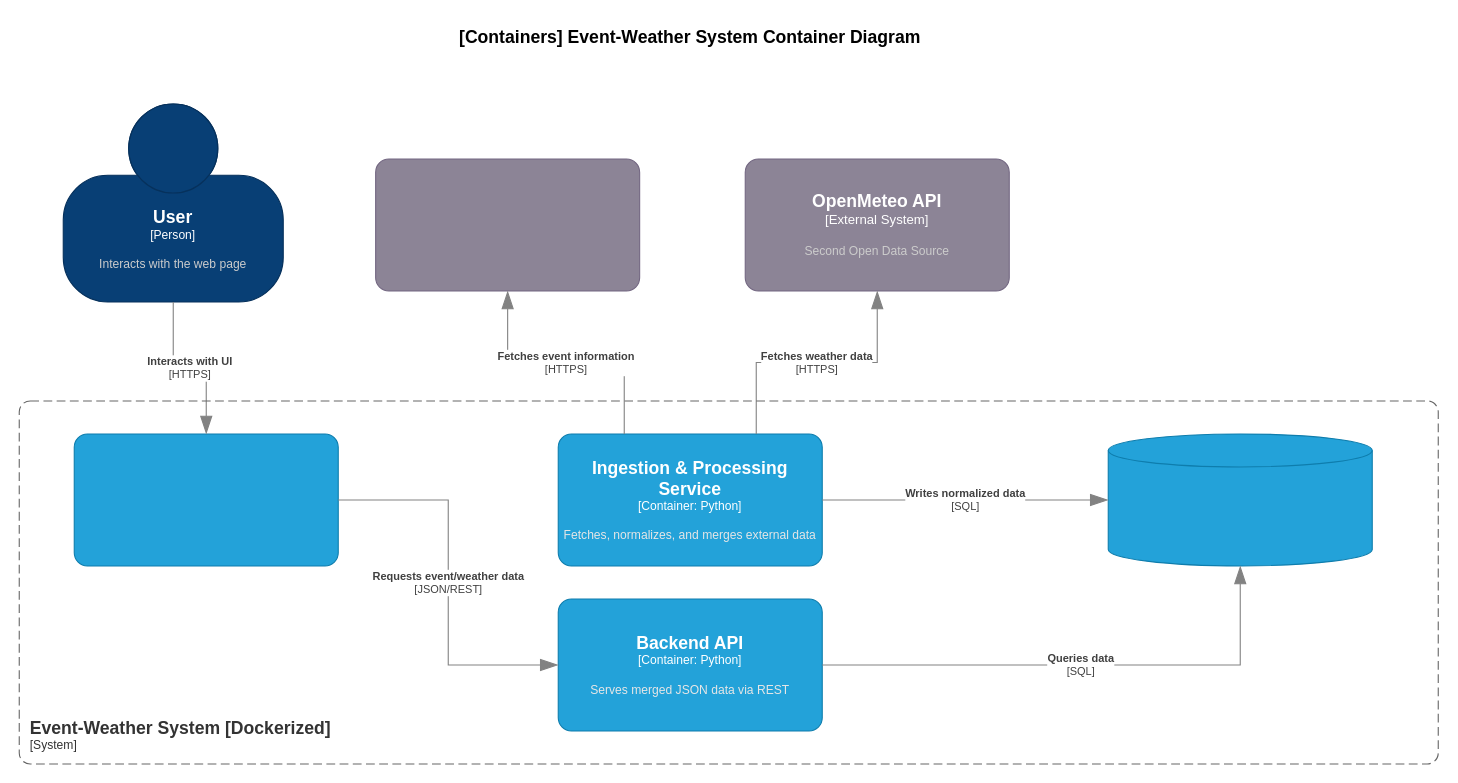
Image size: 1458x783. Some labels were removed from this diagram. The shapes that lost their labels are listed below. From the top down, each one's box as (x1, y1, x2, y2) in pixels, then its label:
(375, 158, 640, 291): Ticketmaster API [External System] First Open Data Source
(73, 433, 338, 566): Frontend Web Page [Container: JavaScript] Displays event and weather info
(1107, 433, 1372, 566): Database [Container: PostgreSQL] Stores processed events and weather forecasts
